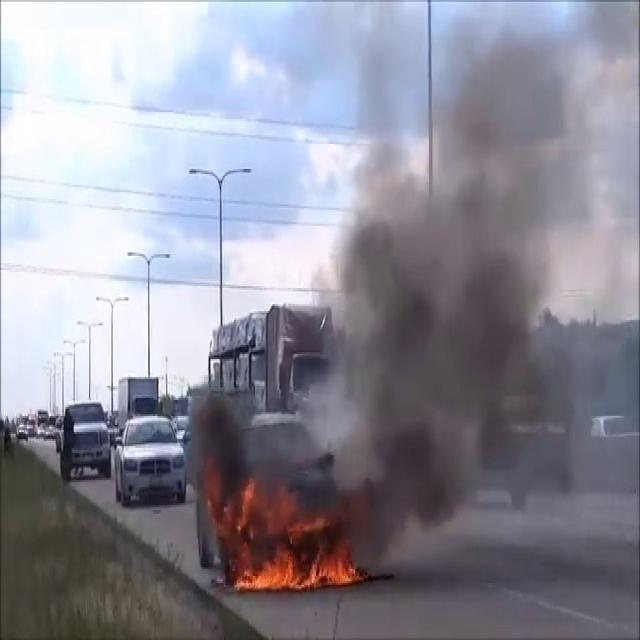Fire: (220, 476, 364, 600)
Smoke: (290, 4, 636, 564)
